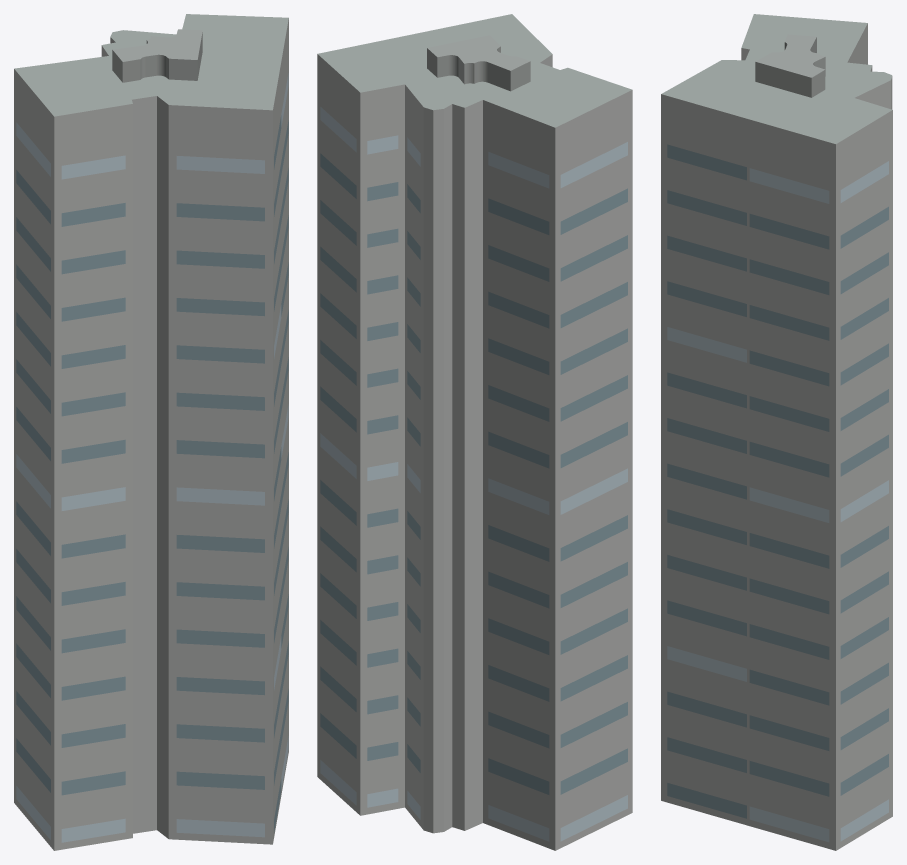
File: fallback-jamsil-trizium-321.glb
3 views of the same model, side by side, from view 1: azimuth 30°, elevation 25°; view 2: azimuth 150°, elevation 25°; view 3: azimuth 270°, elevation 25° (orthographic). The views are drawn at different scales.
Parts seen in each view (by area): view 1: fallback-jamsil-trizium-321; view 2: fallback-jamsil-trizium-321; view 3: fallback-jamsil-trizium-321.
Boxes of the visible parts, x1,y1,x2,y2 form: fallback-jamsil-trizium-321: (14,14,288,850); fallback-jamsil-trizium-321: (317,14,632,850); fallback-jamsil-trizium-321: (661,14,892,850).
Bounding box in the file's own units: 33.45 × 87 × 25.15.
